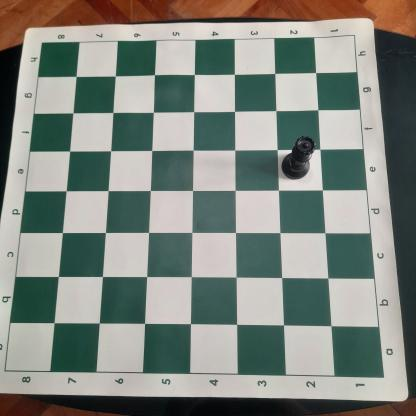black-queen: (280, 134, 316, 182)
